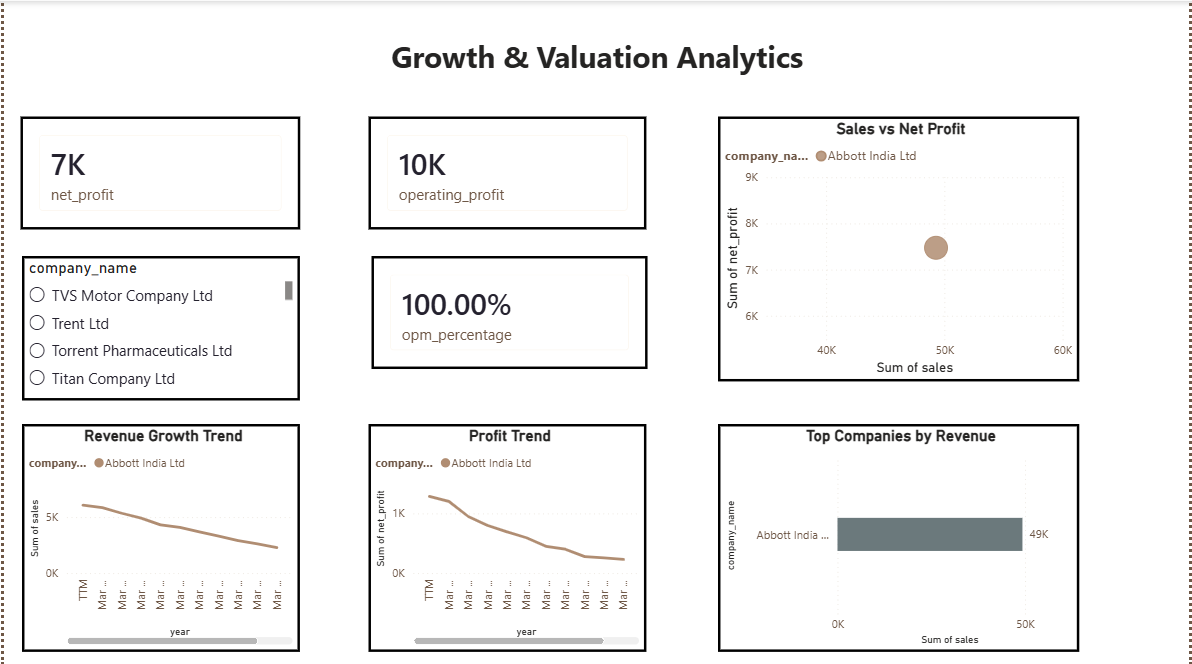

The dashboard page shown, as its layout file describes it:
{"tool":"powerbi","page":{"name":"Growth Analytics","canvas":[1280,720],"ordinal":4},"visuals":[{"type":"textbox","box":[363.3,31.7,555,66.7],"z":0},{"type":"listSlicer","fields":{"Values":["Companies  |  92 records (Companies).company_name"]},"box":[20,276,300,156],"z":1000},{"type":"lineChart","title":"Revenue Growth Trend","fields":{"Category":["Profit & Loss  |  1,276 records (Profit & Loss.year"],"Series":["Companies  |  92 records (Companies).company_name"],"Y":["Sum(Profit & Loss  |  1,276 records (Profit & Loss.sales)"]},"box":[20,456,300,246],"z":2000},{"type":"cardVisual","fields":{"Data":["Sum(Profit & Loss  |  1,276 records (Profit & Loss.net_profit)"]},"box":[18,124,302,122],"z":3000},{"type":"cardVisual","fields":{"Data":["Sum(Profit & Loss  |  1,276 records (Profit & Loss.operating_profit)"]},"box":[394,124,300,122],"z":4000},{"type":"cardVisual","fields":{"Data":["Sum(Profit & Loss  |  1,276 records (Profit & Loss.opm_percentage)"]},"box":[396,276,298,122],"z":5000},{"type":"lineChart","title":"Profit Trend","fields":{"Category":["Profit & Loss  |  1,276 records (Profit & Loss.year"],"Series":["Companies  |  92 records (Companies).company_name"],"Y":["Sum(Profit & Loss  |  1,276 records (Profit & Loss.net_profit)"]},"box":[394,456,300,246],"z":6000},{"type":"scatterChart","title":"Sales vs Net Profit ","fields":{"Series":["Companies  |  92 records (Companies).company_name"],"X":["Sum(Profit & Loss  |  1,276 records (Profit & Loss.sales)"],"Y":["Sum(Profit & Loss  |  1,276 records (Profit & Loss.net_profit)"],"Size":["Sum(Profit & Loss  |  1,276 records (Profit & Loss.operating_profit)"]},"box":[770,124,390,286],"z":7000},{"type":"clusteredBarChart","title":"Top Companies by Revenue","fields":{"Y":["Sum(Profit & Loss  |  1,276 records (Profit & Loss.sales)"],"Category":["Companies  |  92 records (Companies).company_name"]},"box":[770,456,390,246],"z":8000}]}

Visuals, with their boxes in screenshot pixels (x1, y1, x2, y2), scaled from the page's 1280x720 canvas onto the 1192x664 screenshot:
textbox: box(338, 29, 855, 91)
listSlicer - Companies  |  92 records (Companies).company_name: box(19, 255, 298, 398)
"Revenue Growth Trend" lineChart: box(19, 421, 298, 647)
cardVisual - Sum(Profit & Loss  |  1,276 records (Profit & Loss.net_profit): box(17, 114, 298, 227)
cardVisual - Sum(Profit & Loss  |  1,276 records (Profit & Loss.operating_profit): box(367, 114, 646, 227)
cardVisual - Sum(Profit & Loss  |  1,276 records (Profit & Loss.opm_percentage): box(369, 255, 646, 367)
"Profit Trend" lineChart: box(367, 421, 646, 647)
"Sales vs Net Profit " scatterChart: box(717, 114, 1080, 378)
"Top Companies by Revenue" clusteredBarChart: box(717, 421, 1080, 647)
